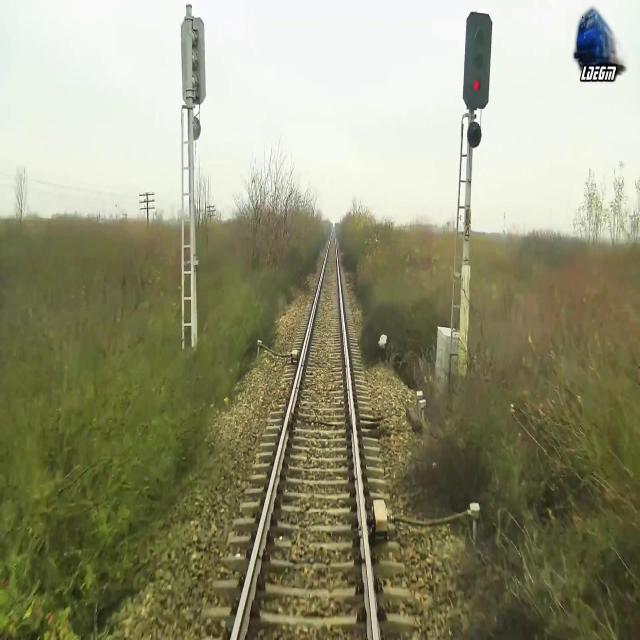rail-track: (235, 230, 373, 639)
